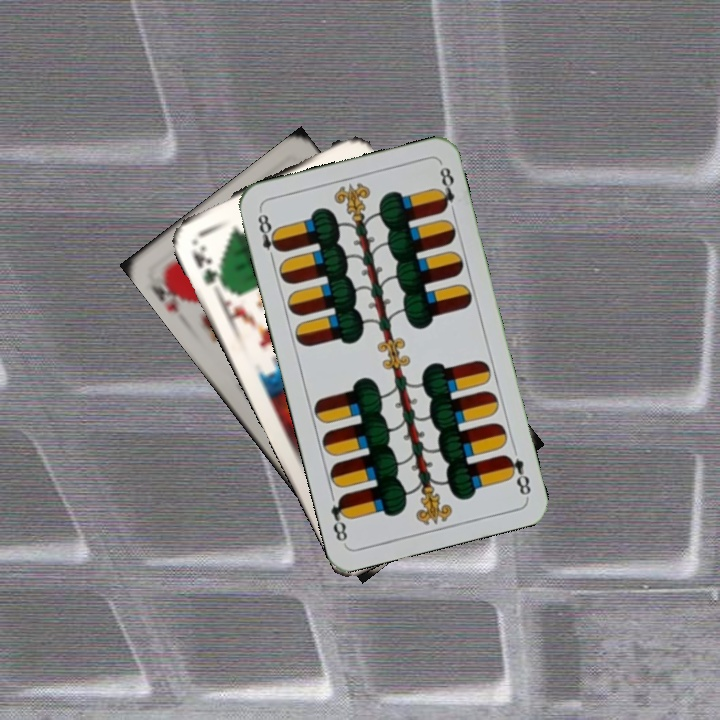E8: (253, 206, 284, 265), (500, 451, 533, 498)
GK: (188, 240, 227, 290)
HK: (147, 266, 192, 315)
